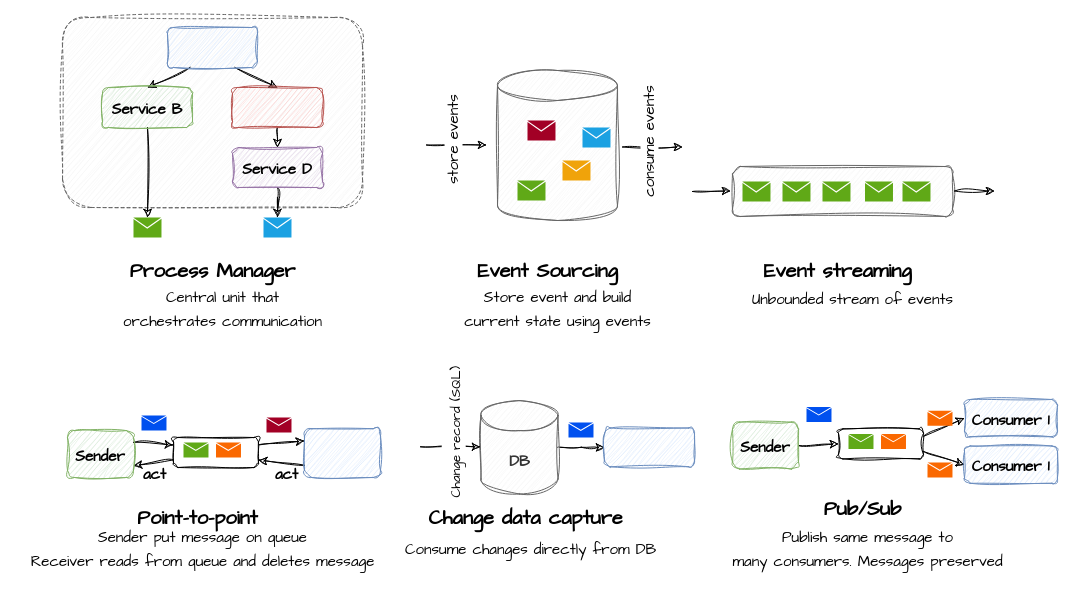
The diagram is 1075 pixels wide and 595 high, and some of its shapes have lost their labels. Here are the shapes that lost their labels. From the top down, the box of each, then its label:
(166, 26, 258, 68): Service A
(232, 86, 322, 128): Service C
(304, 428, 380, 478): Receiver
(604, 427, 694, 467): Consumer
